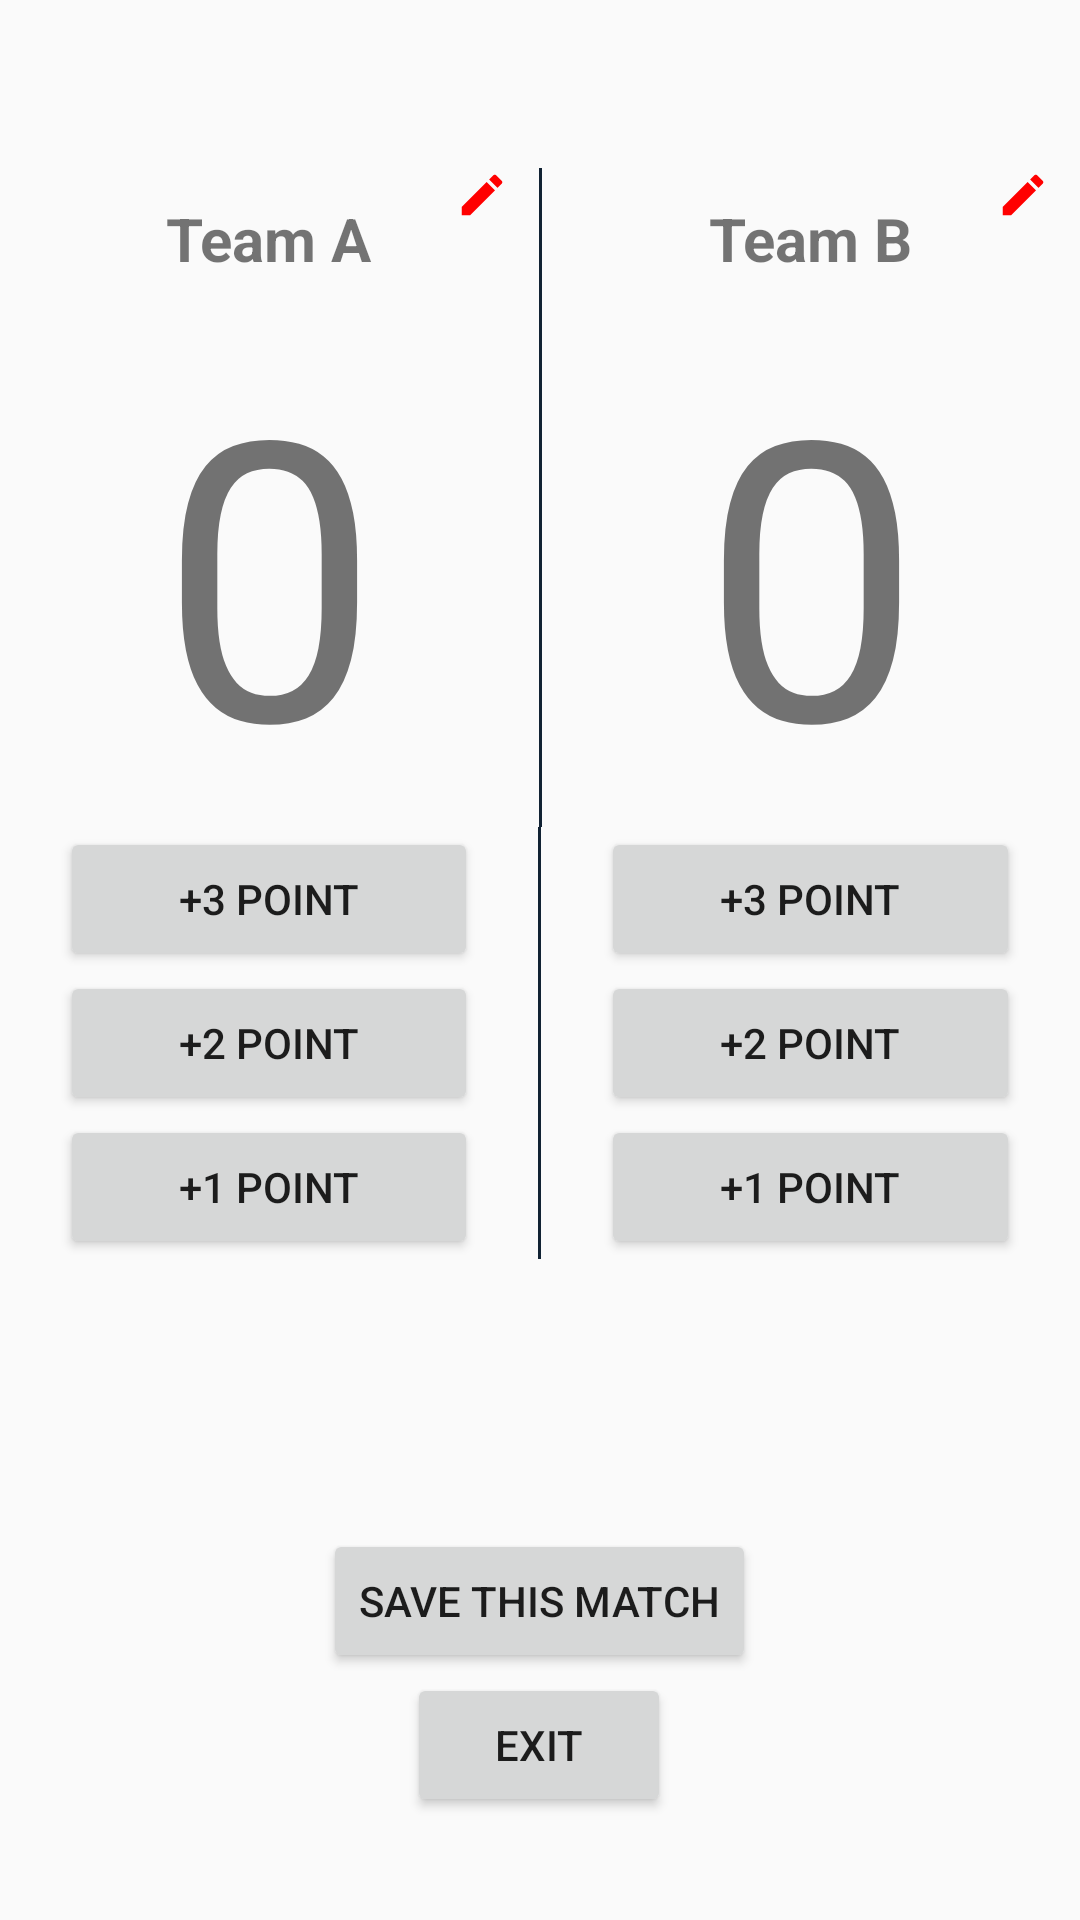

Where to tap for icons on this 1080 × 1920 app screen, as [x,y]:
edit pen: [482,195], [1023,195]
